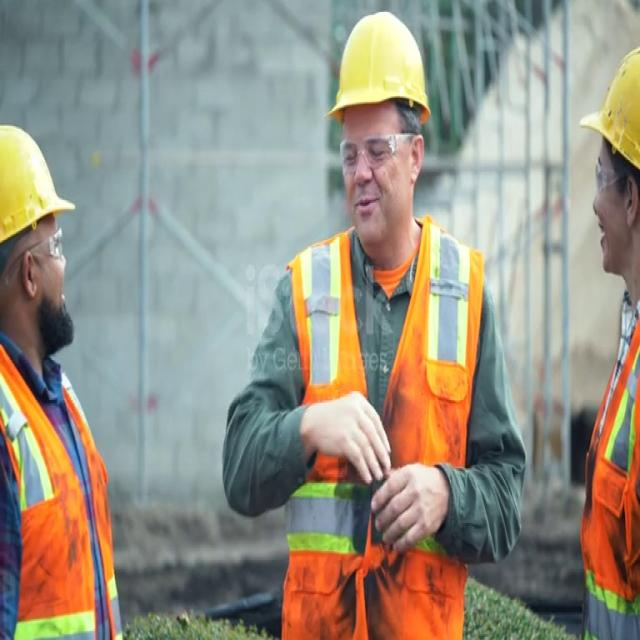capacete: (320, 7, 446, 136), (0, 110, 86, 267), (576, 34, 640, 178)
